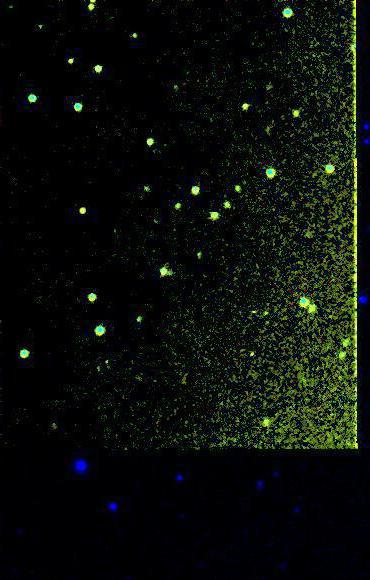star: (302, 299, 332, 329)
